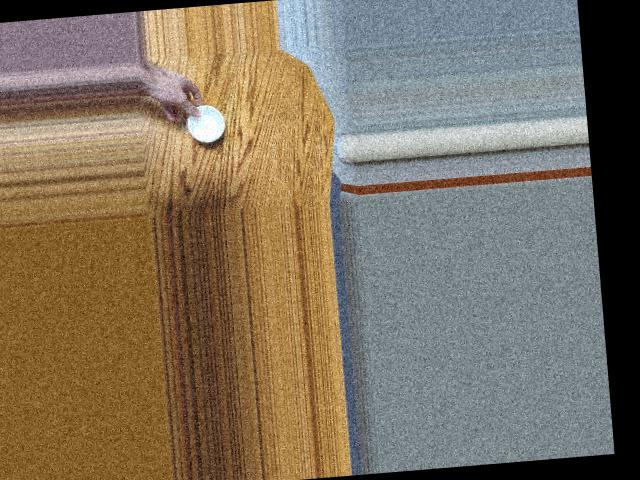cotage: (181, 99, 226, 142)
